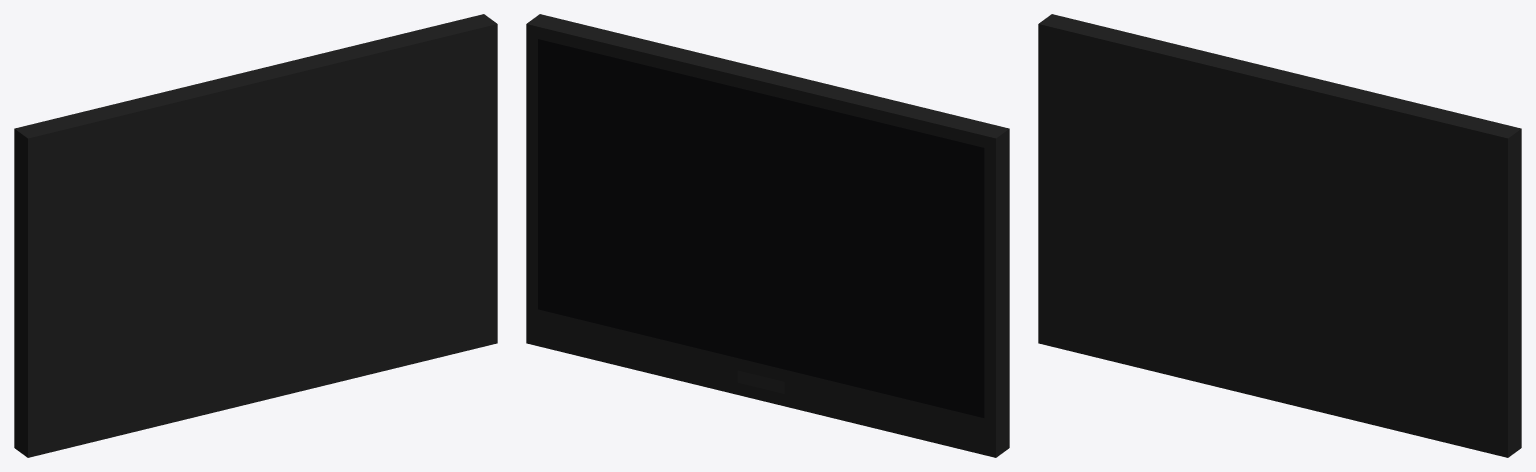
File: tv_wall_01.dae
3 renders of one model, left to right at view 1: azimuth 30°, elevation 25°; view 2: azimuth 150°, elevation 25°; view 3: azimuth 330°, elevation 25°, orthographic.
Visible parts, largest first — view 1: Untitled.001; view 2: Untitled, Untitled.001; view 3: Untitled.001.
Part boxes in pixels (x1,y1,x2,y2): Untitled.001: [14, 14, 497, 457]; Untitled: [538, 39, 984, 417]; Untitled.001: [526, 14, 1009, 457]; Untitled.001: [1038, 14, 1521, 457].
Bounding box in the file's own units: 1.2 × 0.06 × 0.78.
Materials: 2 (2 with a texture image).
